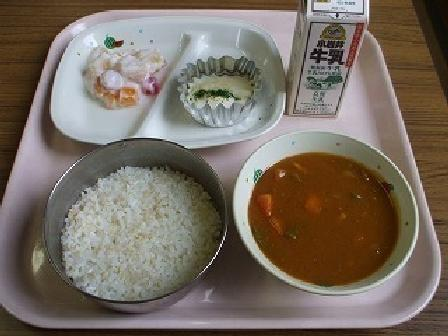Cup desserts: (171, 49, 274, 133)
Curry: (251, 140, 404, 282)
Milk: (280, 3, 370, 121)
Rice: (50, 146, 224, 296)
desserts: (69, 34, 173, 111)
